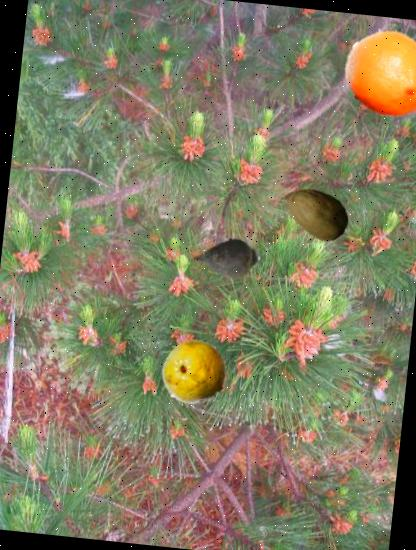Beetroot: (187, 222, 265, 300)
Guava: (157, 336, 231, 410)
Lemon: (338, 23, 416, 125)
Papaya: (283, 177, 353, 247)
